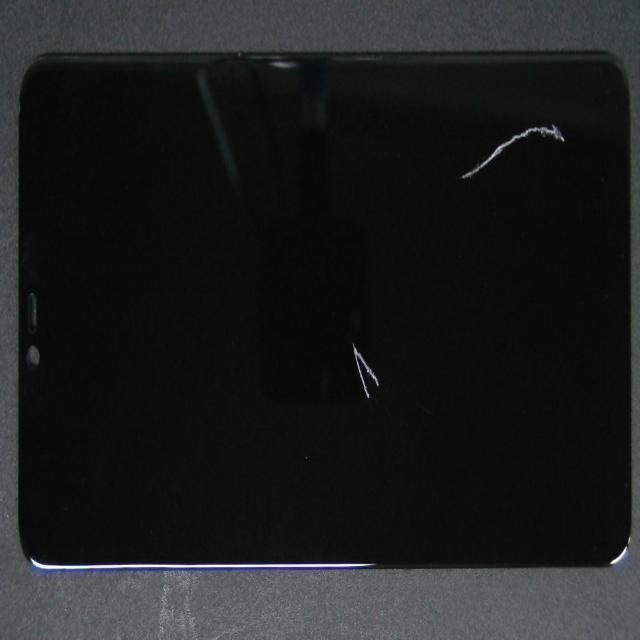scratch: (221, 209, 570, 537), (316, 72, 640, 181)
